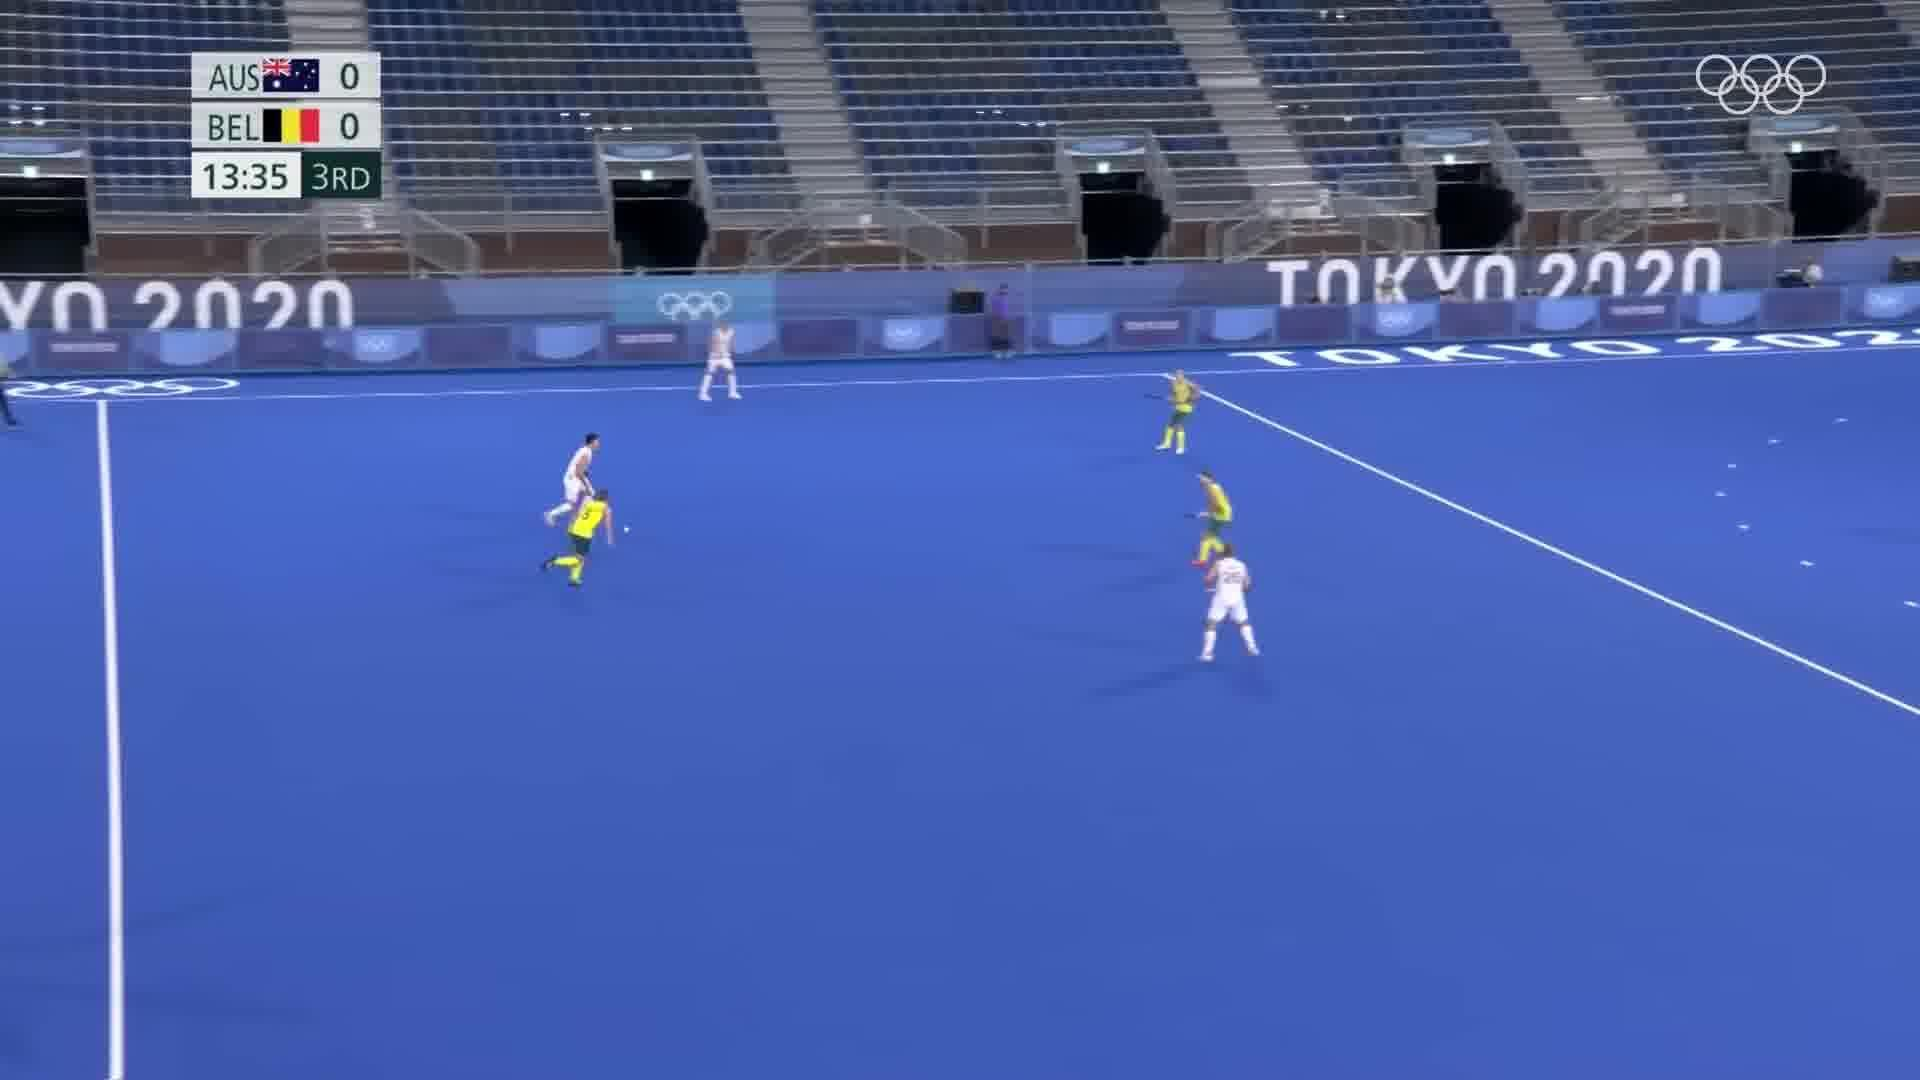ball: (618, 518, 636, 541)
